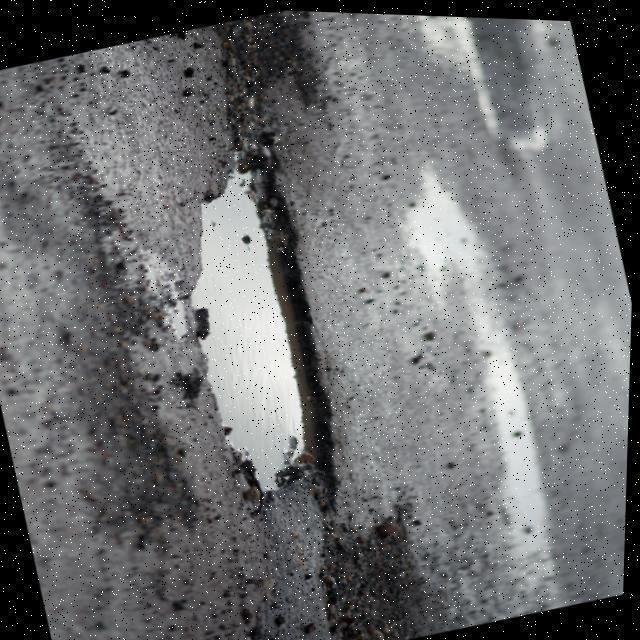Pothole: (179, 84, 359, 543)
